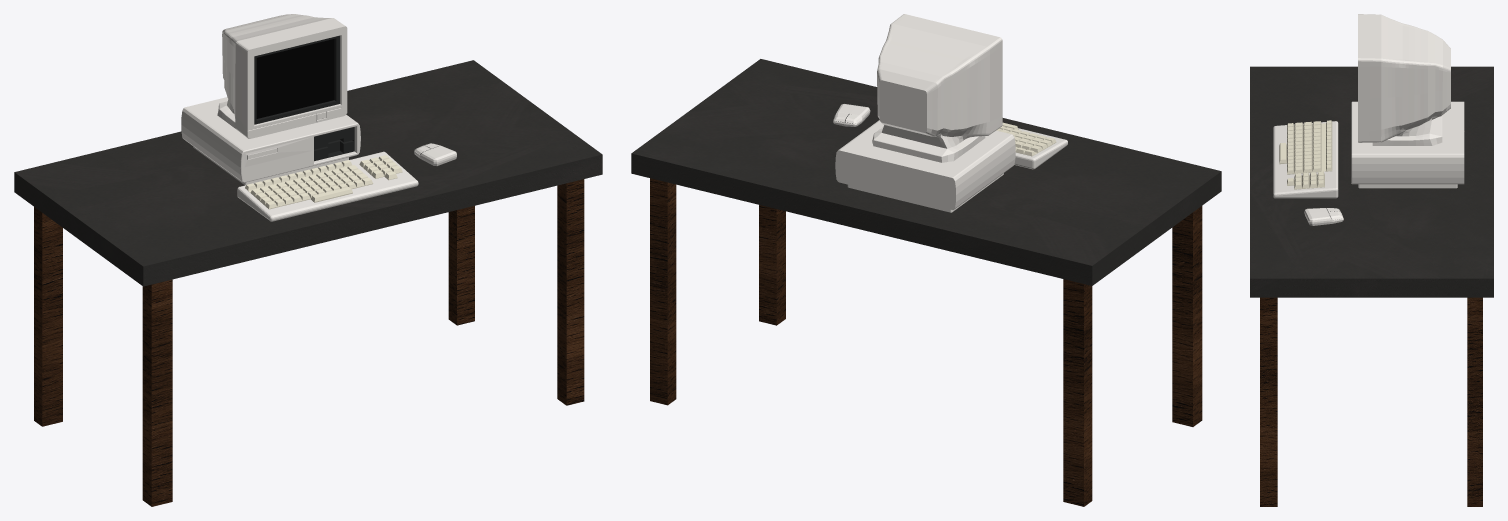
The model's file is highPolyComputer.glb.
The picture shows the model from 3 angles, left to right: view 1: azimuth 30°, elevation 25°; view 2: azimuth 150°, elevation 25°; view 3: azimuth 270°, elevation 25°; orthographic projection. The views are drawn at different scales.
Parts seen in each view (by area): view 1: Table, Monitor, Casing, Keys, Keyboard, Mouse; view 2: Table, Monitor, Casing, Keys, Keyboard, Mouse; view 3: Table, Monitor, Casing, Keys, Keyboard, Mouse.
Part boxes in pixels (box(x1,y1,x2,y2)): Table: box(14, 60, 602, 506); Monitor: box(217, 14, 347, 138); Casing: box(181, 97, 360, 185); Keys: box(245, 155, 402, 209); Keyboard: box(237, 151, 418, 221); Mouse: box(414, 143, 456, 165); Table: box(631, 59, 1221, 506); Monitor: box(872, 14, 1002, 162); Casing: box(835, 120, 1015, 212); Keys: box(996, 122, 1056, 156); Keyboard: box(1014, 128, 1067, 169); Mouse: box(833, 104, 870, 126); Table: box(1250, 66, 1493, 506); Monitor: box(1358, 14, 1450, 145); Casing: box(1351, 101, 1464, 188); Keys: box(1279, 120, 1332, 189); Keyboard: box(1273, 121, 1338, 198); Mouse: box(1304, 208, 1343, 225).
Size of the model in its own units: 1.94 by 1.55 by 0.9457.
6 materials, 2 textured.
